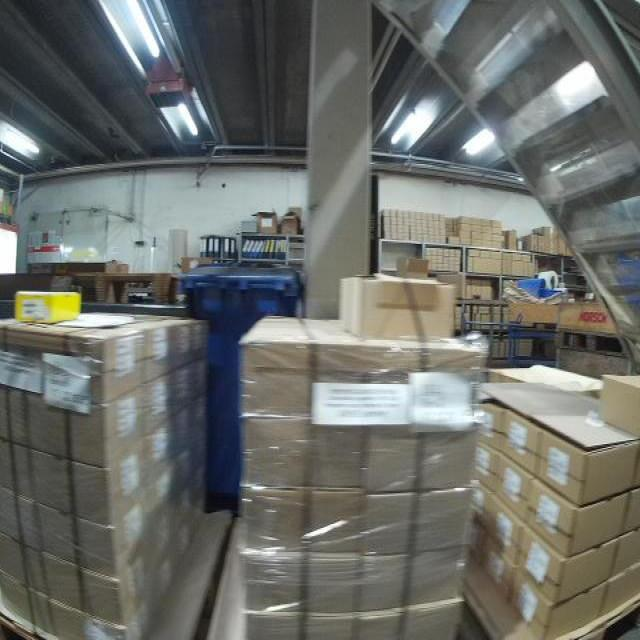pallet: (575, 603, 640, 640), (557, 326, 631, 357)
